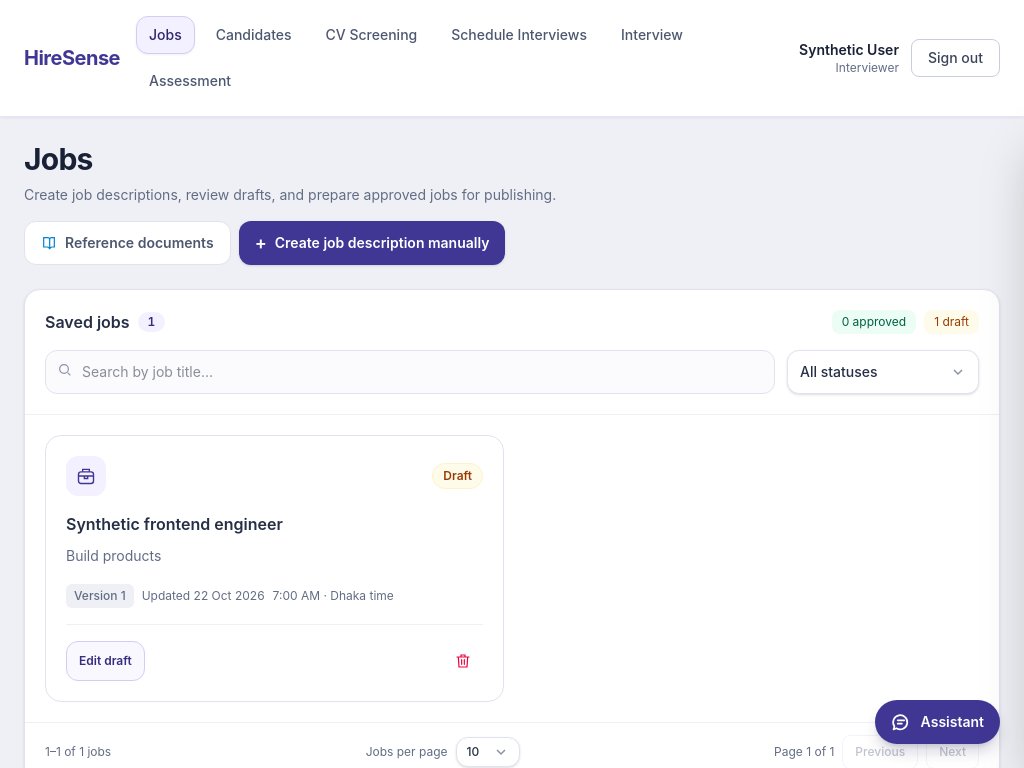
Test: approves the specifically selected saved draft without requiring a chatbot request
Click the button "Edit draft" at coordinates (105, 661), box [66,641,145,681]
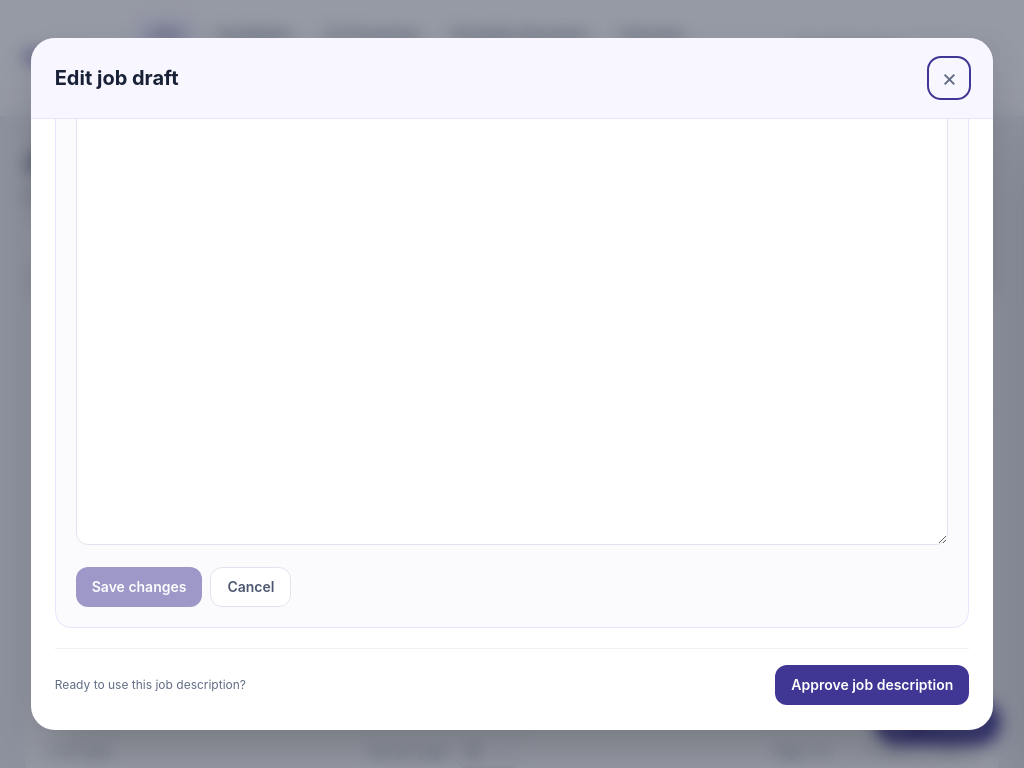
Click the button "Approve job description" at coordinates (872, 685), box [775,665,969,705]
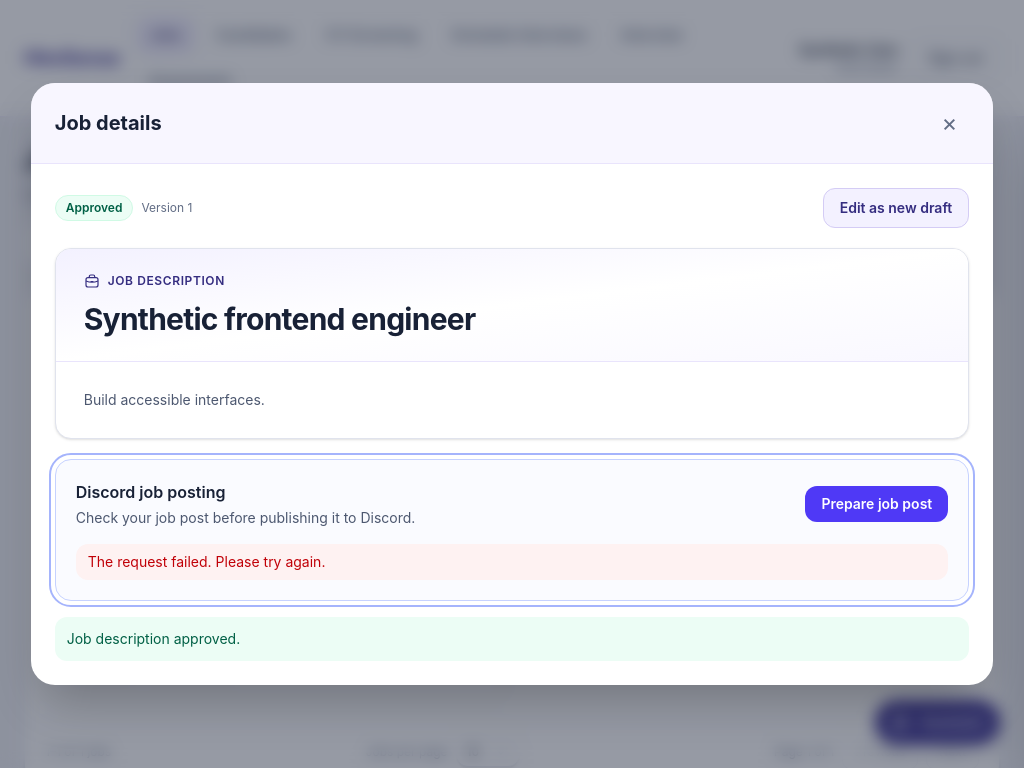
Expected: the dialog "Job details" is shown
Expected: the text "Approved" is shown, [55,195,133,221]
